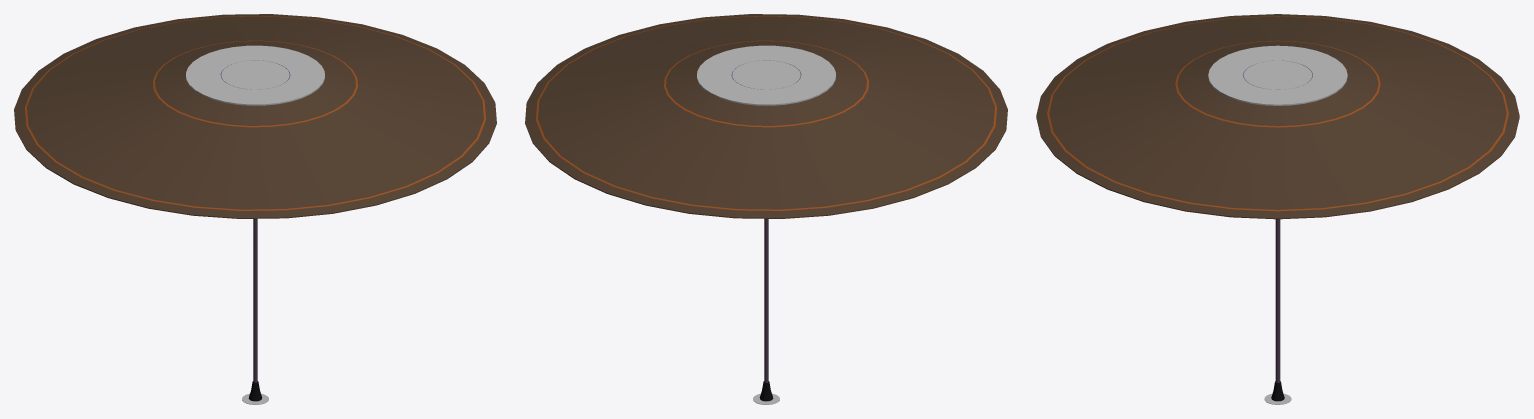
File: W_O_Cafe_Parasol_002_L0.fbx
The picture shows the model from 3 angles, left to right: view 1: azimuth 30°, elevation 25°; view 2: azimuth 150°, elevation 25°; view 3: azimuth 270°, elevation 25°; orthographic projection.
Visible parts, largest first — view 1: W_O_Cafe_Parasol_002_L0; view 2: W_O_Cafe_Parasol_002_L0; view 3: W_O_Cafe_Parasol_002_L0.
Part boxes in pixels (x1,y1,x2,y2): W_O_Cafe_Parasol_002_L0: (14,14,496,404); W_O_Cafe_Parasol_002_L0: (525,14,1007,404); W_O_Cafe_Parasol_002_L0: (1036,14,1519,404).
Bounding box in the file's own units: 2.3 × 1.7 × 2.3.
